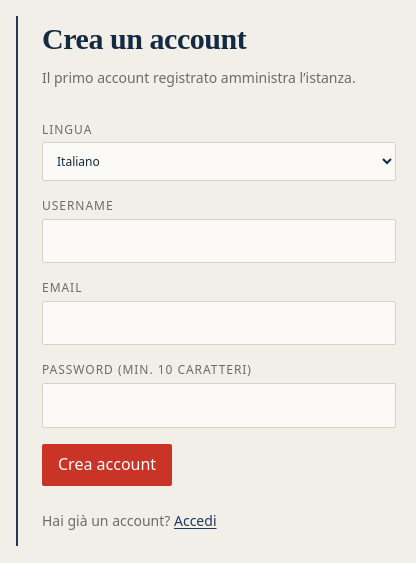
does not automatically sign in an account awaiting verification
The width and height of the screenshot is (416, 563).
Type "reader" into the field labelled "Username".
click(219, 241); type("reader")  # box [42,219,396,263]
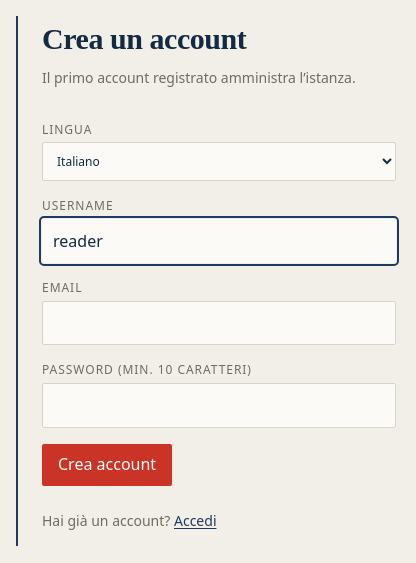
Type "reader@example.test" into the field labelled "Email".
click(219, 323); type("reader@example.test")  # box [42,301,396,345]
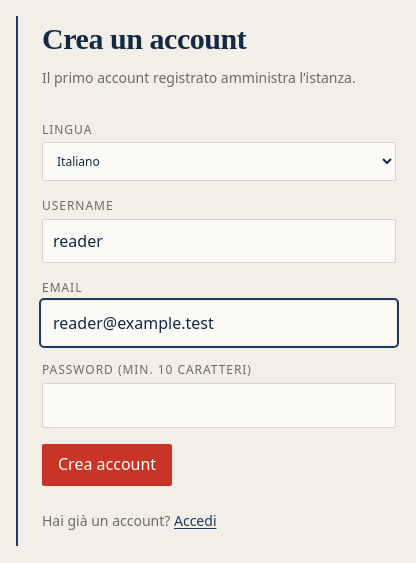
Type "new-password-123" into the password field labelled "Password (min. 10 caratteri)".
click(219, 405); type("new-password-123")  # box [42,383,396,428]
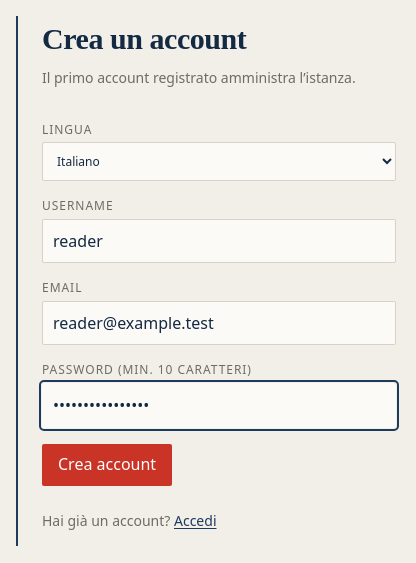
Click the button "Crea account".
click(107, 465)  # box [42,444,172,486]
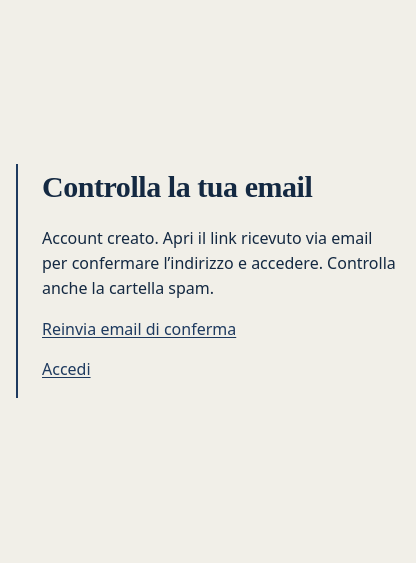
Now the message shows "Account creato", box [42,227,396,299]
